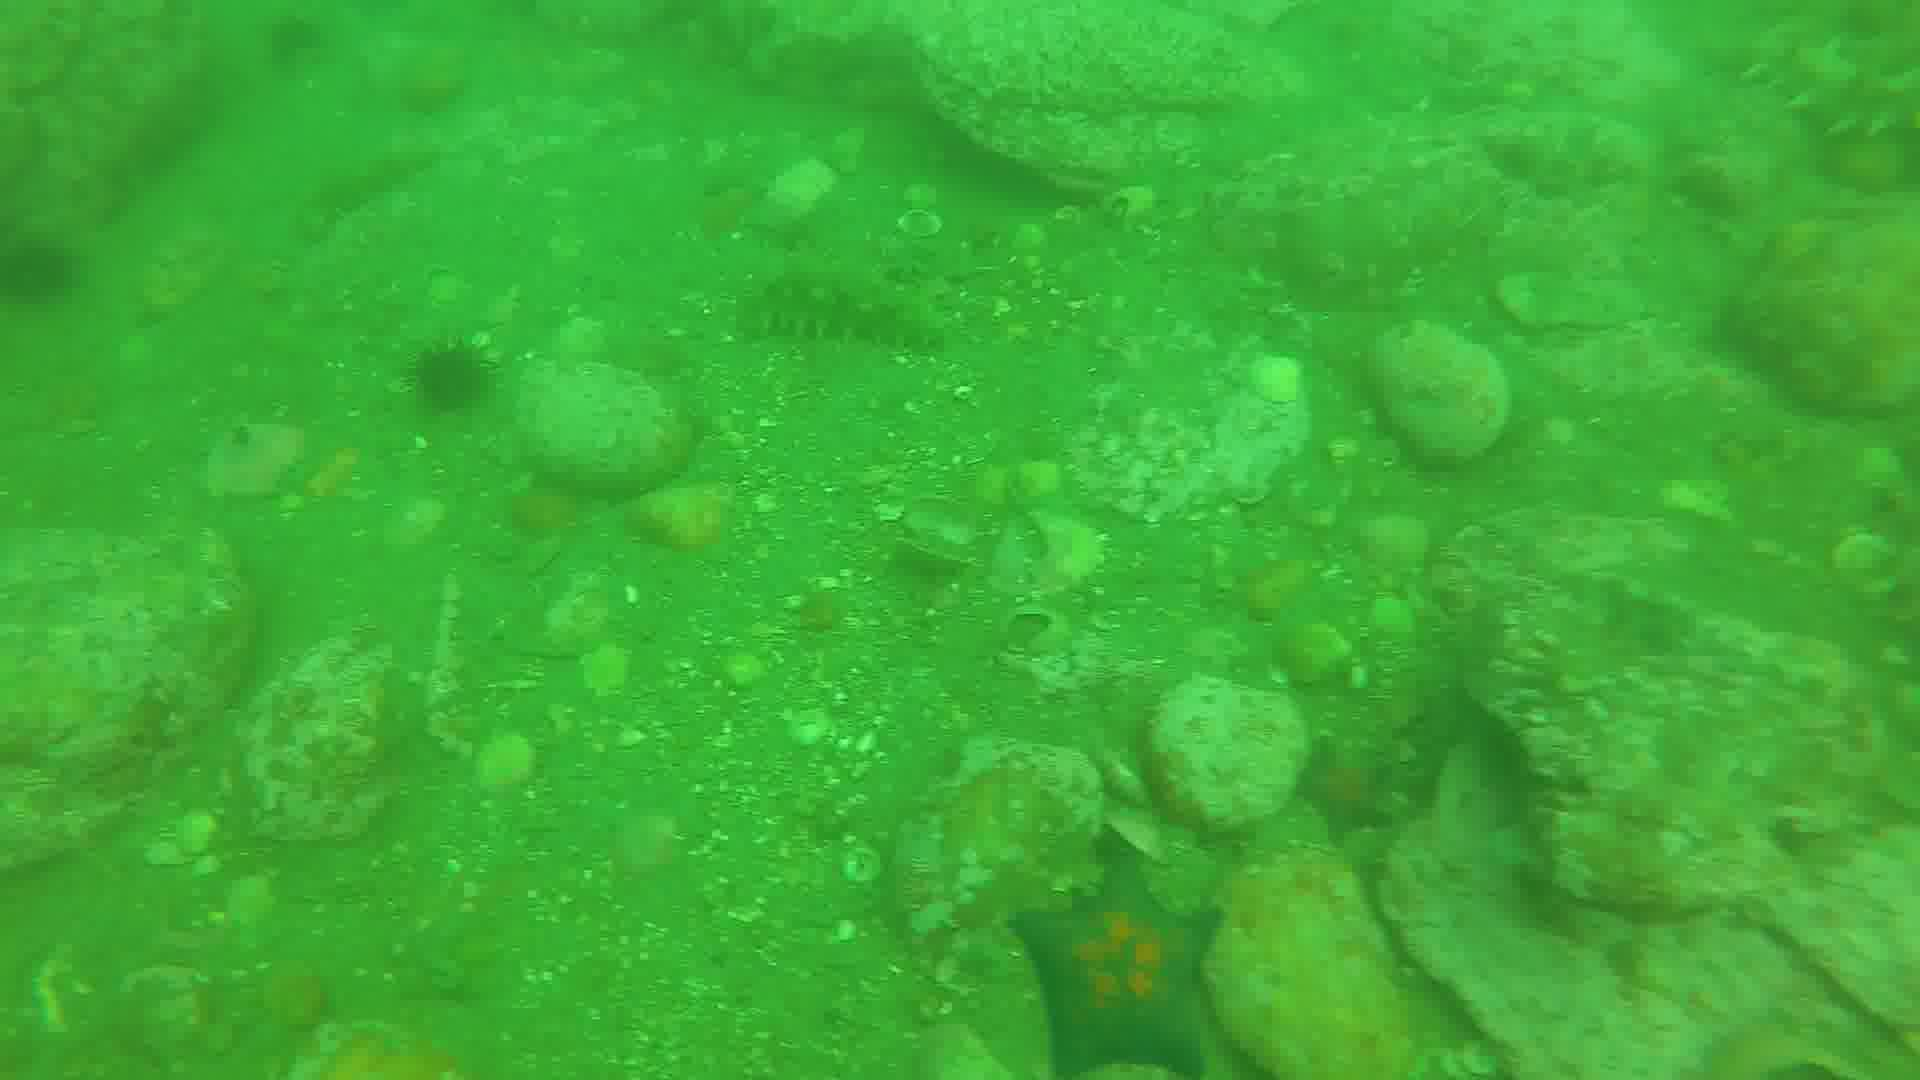echinus: (3, 225, 80, 307), (419, 339, 500, 407)
holothurian: (1751, 32, 1920, 138), (731, 274, 945, 353)
starfish: (1007, 848, 1218, 1080), (1295, 735, 1389, 833)
